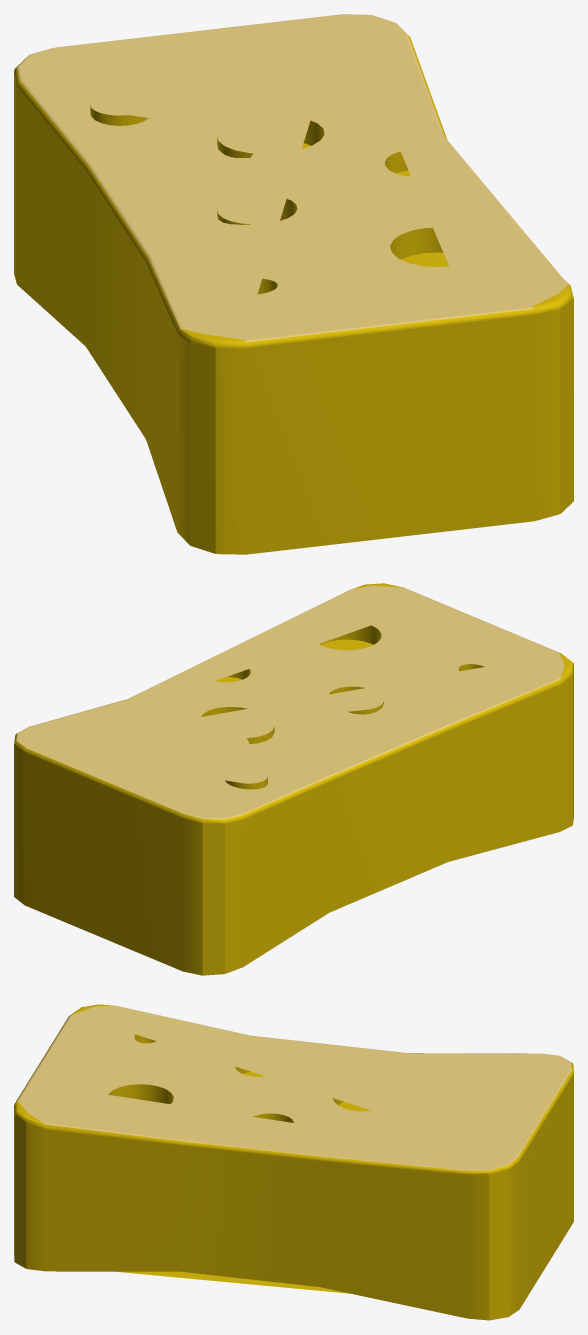
Rendered from Sponge.fbx.
The picture shows the model from 3 angles, top to bottom: view 1: azimuth 30°, elevation 25°; view 2: azimuth 150°, elevation 25°; view 3: azimuth 270°, elevation 25°; orthographic projection. The views are drawn at different scales.
Parts seen in each view (by area): view 1: pCube18; view 2: pCube18; view 3: pCube18.
Part boxes in pixels (box(x1,y1,x2,y2)): pCube18: box(14, 14, 573, 554); pCube18: box(14, 583, 573, 975); pCube18: box(14, 1004, 573, 1320).
Size of the model in its own units: 0.1684 by 0.071 by 0.2373.
